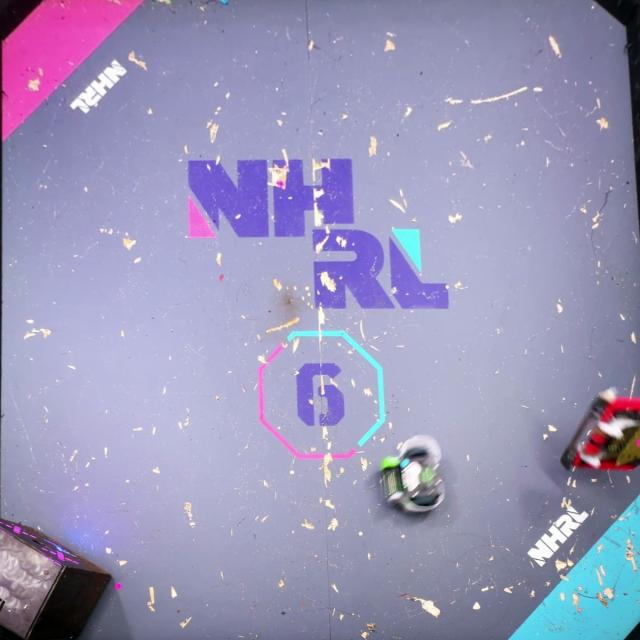housebot: (0, 516, 112, 640)
robot: (558, 386, 640, 476), (379, 433, 445, 518)
